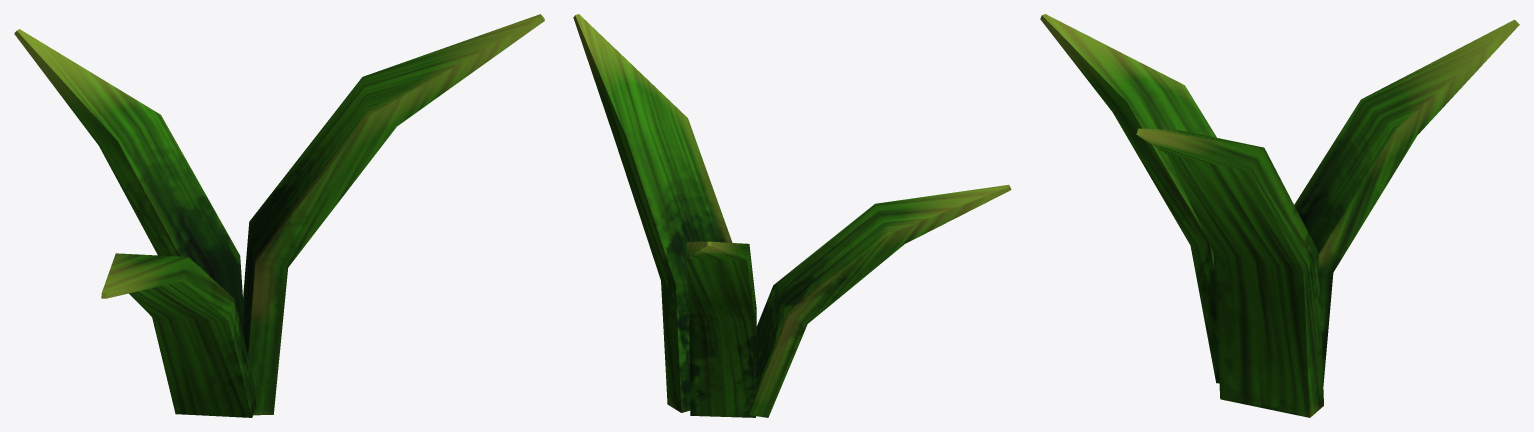
Rendered from PLantas5.fbx.
The picture shows the model from 3 angles, left to right: view 1: azimuth 30°, elevation 25°; view 2: azimuth 150°, elevation 25°; view 3: azimuth 270°, elevation 25°; orthographic projection. The views are drawn at different scales.
Visible parts, largest first — view 1: Hierba; view 2: Hierba; view 3: Hierba.
Boxes of the visible parts, bbox=[...] form: Hierba: bbox=[14, 14, 544, 417]; Hierba: bbox=[573, 14, 1011, 417]; Hierba: bbox=[1040, 14, 1519, 417].
Size of the model in its own units: 109 by 79.61 by 89.07.
